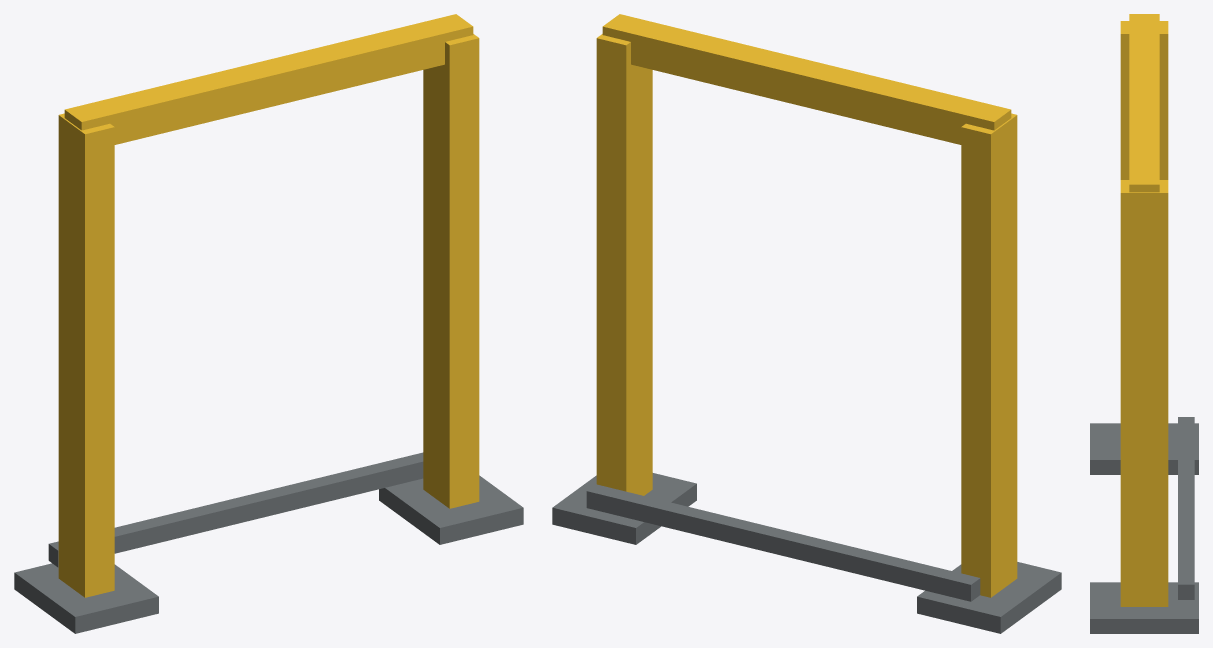
The model's file is SM_Factory_TwoPostLift.fbx.
The picture shows the model from 3 angles, left to right: view 1: azimuth 30°, elevation 25°; view 2: azimuth 150°, elevation 25°; view 3: azimuth 270°, elevation 25°; orthographic projection. The views are drawn at different scales.
Parts seen in each view (by area): view 1: Lift_Post, Lift_Post.001, Lift_TopBeam, Lift_Foot, Lift_Foot.001, Lift_Arm.001, Lift_Arm; view 2: Lift_Post, Lift_Post.001, Lift_TopBeam, Lift_Arm, Lift_Arm.001, Lift_Foot, Lift_Foot.001; view 3: Lift_Post.001, Lift_TopBeam, Lift_Foot.001, Lift_Post, Lift_Foot, Lift_Arm, Lift_Arm.001.
Boxes of the visible parts, x1,y1,x2,y2 form: Lift_Post: (58, 113, 114, 597); Lift_Post.001: (423, 34, 479, 508); Lift_TopBeam: (64, 14, 473, 144); Lift_Foot: (14, 563, 158, 633); Lift_Foot.001: (379, 475, 523, 544); Lift_Arm.001: (224, 452, 423, 516); Lift_Arm: (48, 499, 267, 567); Lift_Post: (961, 113, 1017, 597); Lift_Post.001: (596, 34, 652, 495); Lift_TopBeam: (602, 14, 1011, 144); Lift_Arm: (761, 534, 980, 601); Lift_Arm.001: (586, 484, 804, 557); Lift_Foot: (917, 562, 1061, 633); Lift_Foot.001: (552, 473, 696, 544); Lift_Post.001: (1120, 180, 1168, 606); Lift_TopBeam: (1129, 14, 1159, 192); Lift_Foot.001: (1090, 582, 1198, 633); Lift_Post: (1120, 21, 1168, 179); Lift_Foot: (1090, 423, 1198, 474); Lift_Arm: (1178, 417, 1194, 508); Lift_Arm.001: (1178, 508, 1194, 599).
Bounding box in the file's own units: 3.32 × 0.78 × 3.46.
